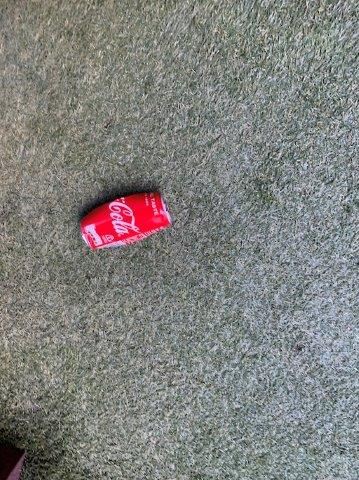kaleng: (82, 193, 171, 250)
